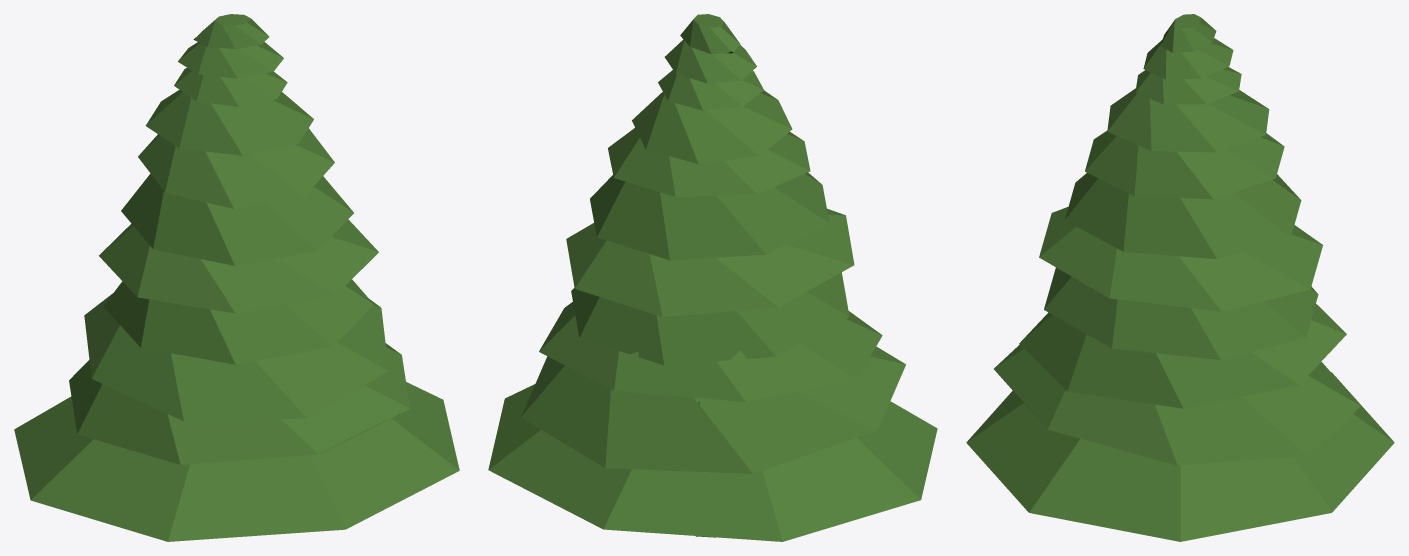
Rendered from tree2.glb.
3 renders of one model, left to right at view 1: azimuth 30°, elevation 25°; view 2: azimuth 150°, elevation 25°; view 3: azimuth 270°, elevation 25°, orthographic. The views are drawn at different scales.
Visible parts, largest first — view 1: Circle; view 2: Circle; view 3: Circle.
Part boxes in pixels (x1,y1,x2,y2): Circle: (14, 14, 459, 541); Circle: (488, 14, 937, 541); Circle: (966, 14, 1394, 541).
Size of the model in its own units: 6.65 by 7.73 by 6.07.
Materials: 1 (1 with a texture image).
